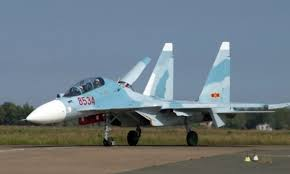maybay_muctieu: (19, 43, 284, 147)
